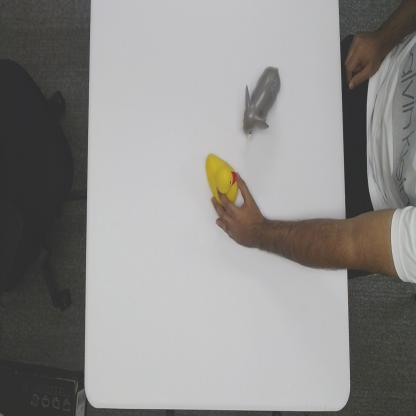Arm: (265, 215, 349, 274)
Duck: (204, 150, 240, 205)
Elephant: (240, 63, 282, 140)
Hand: (211, 168, 262, 251)
